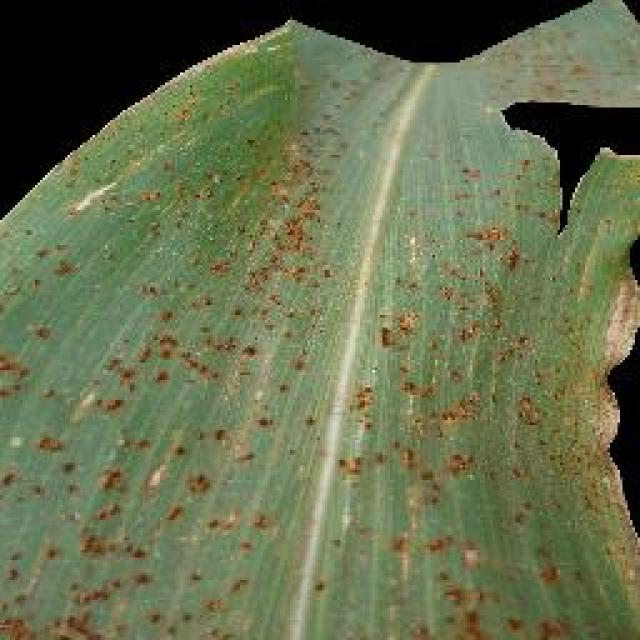Corn Common Rust: (51, 185, 552, 628)
